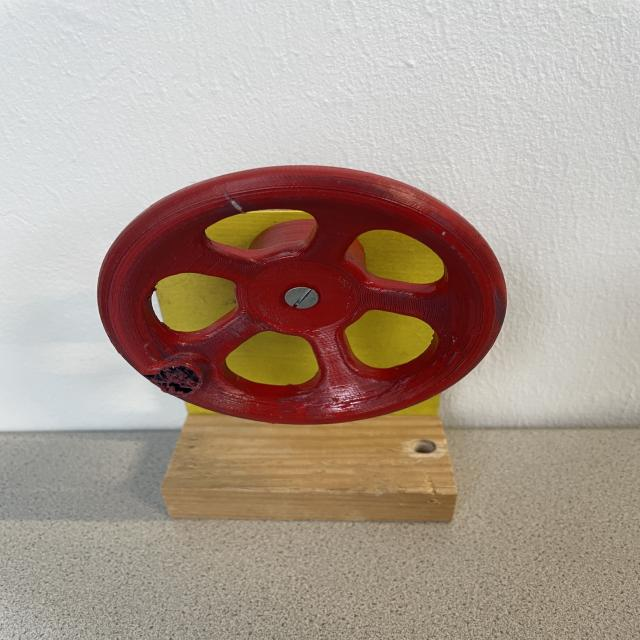Wheel Handle Valve Threaded: (94, 156, 514, 432)
